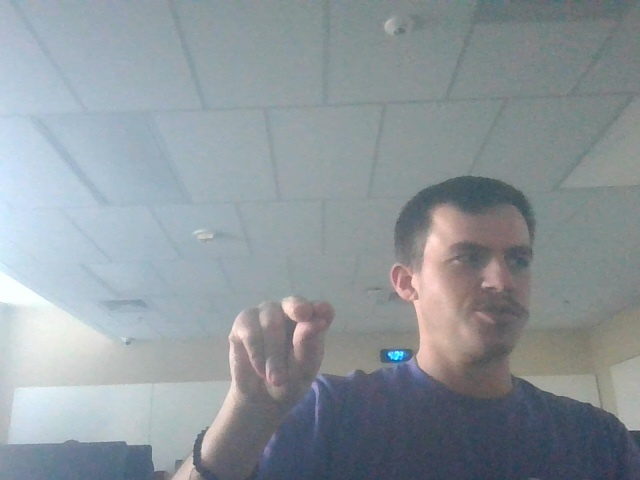no: (220, 289, 343, 422)
